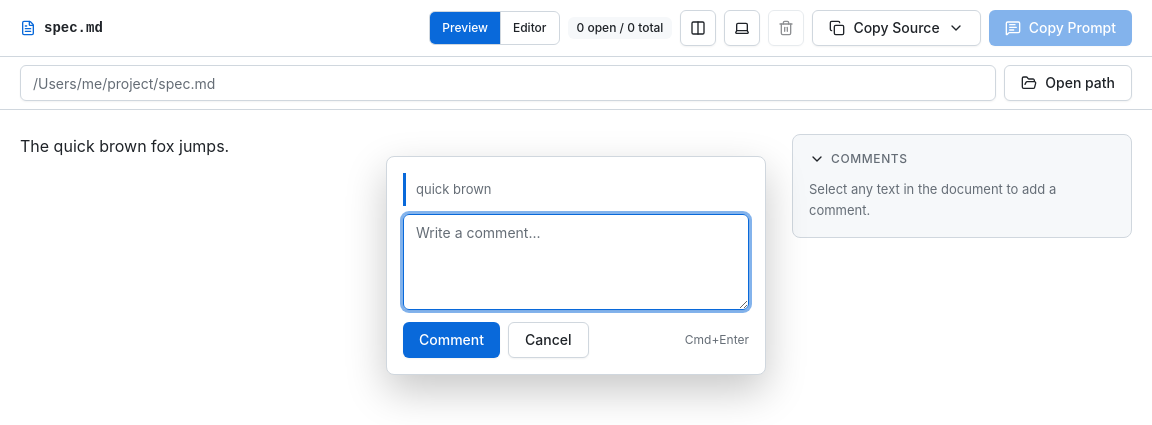
it: App adding a comment › opens a draft on text selection and saves the new comment
Expected: the text "spec.md" is shown, x1=44 y1=18 x2=103 y2=38
Type "Please rephrase" into the text box with placeholder "Write a comment..." at coordinates (576, 262), box x1=403 y1=214 x2=749 y2=310
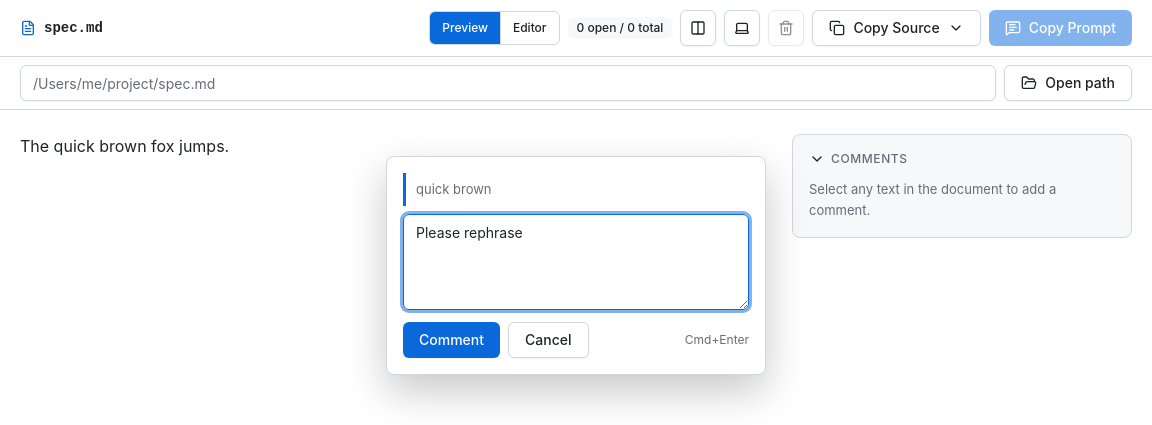
Click the button "Comment" at coordinates (452, 340), box x1=403 y1=322 x2=500 y2=358
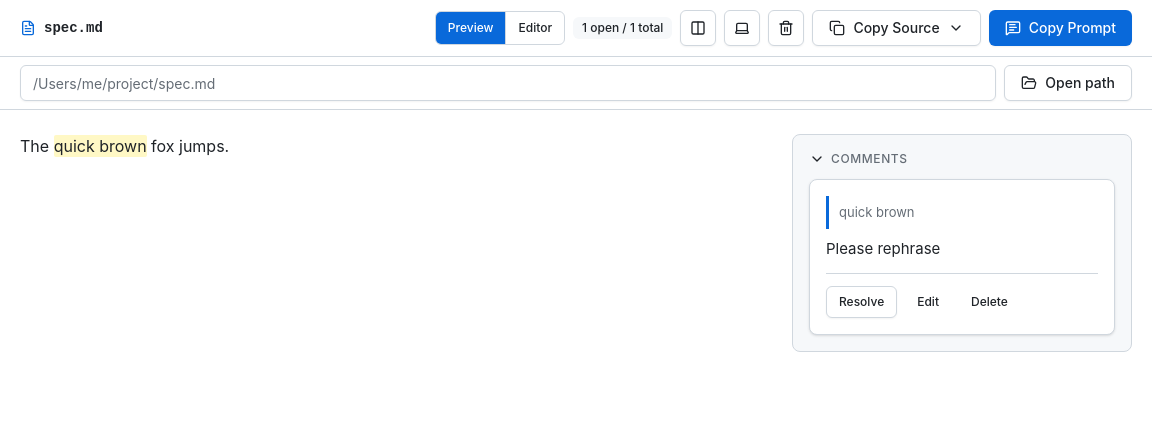
Expected: the text "spec.md" is shown, x1=44 y1=18 x2=103 y2=38
Expected: the text "Please rephrase" is shown, x1=826 y1=239 x2=940 y2=258
